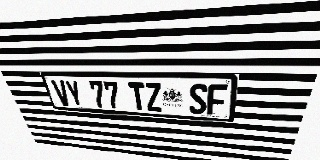7: (102, 81, 122, 109), (88, 81, 108, 108)
F: (207, 84, 228, 116)
S: (189, 83, 208, 114)
T: (128, 82, 147, 111)
V: (51, 80, 72, 106)
Y: (64, 80, 85, 107)
Z: (144, 82, 163, 112)
